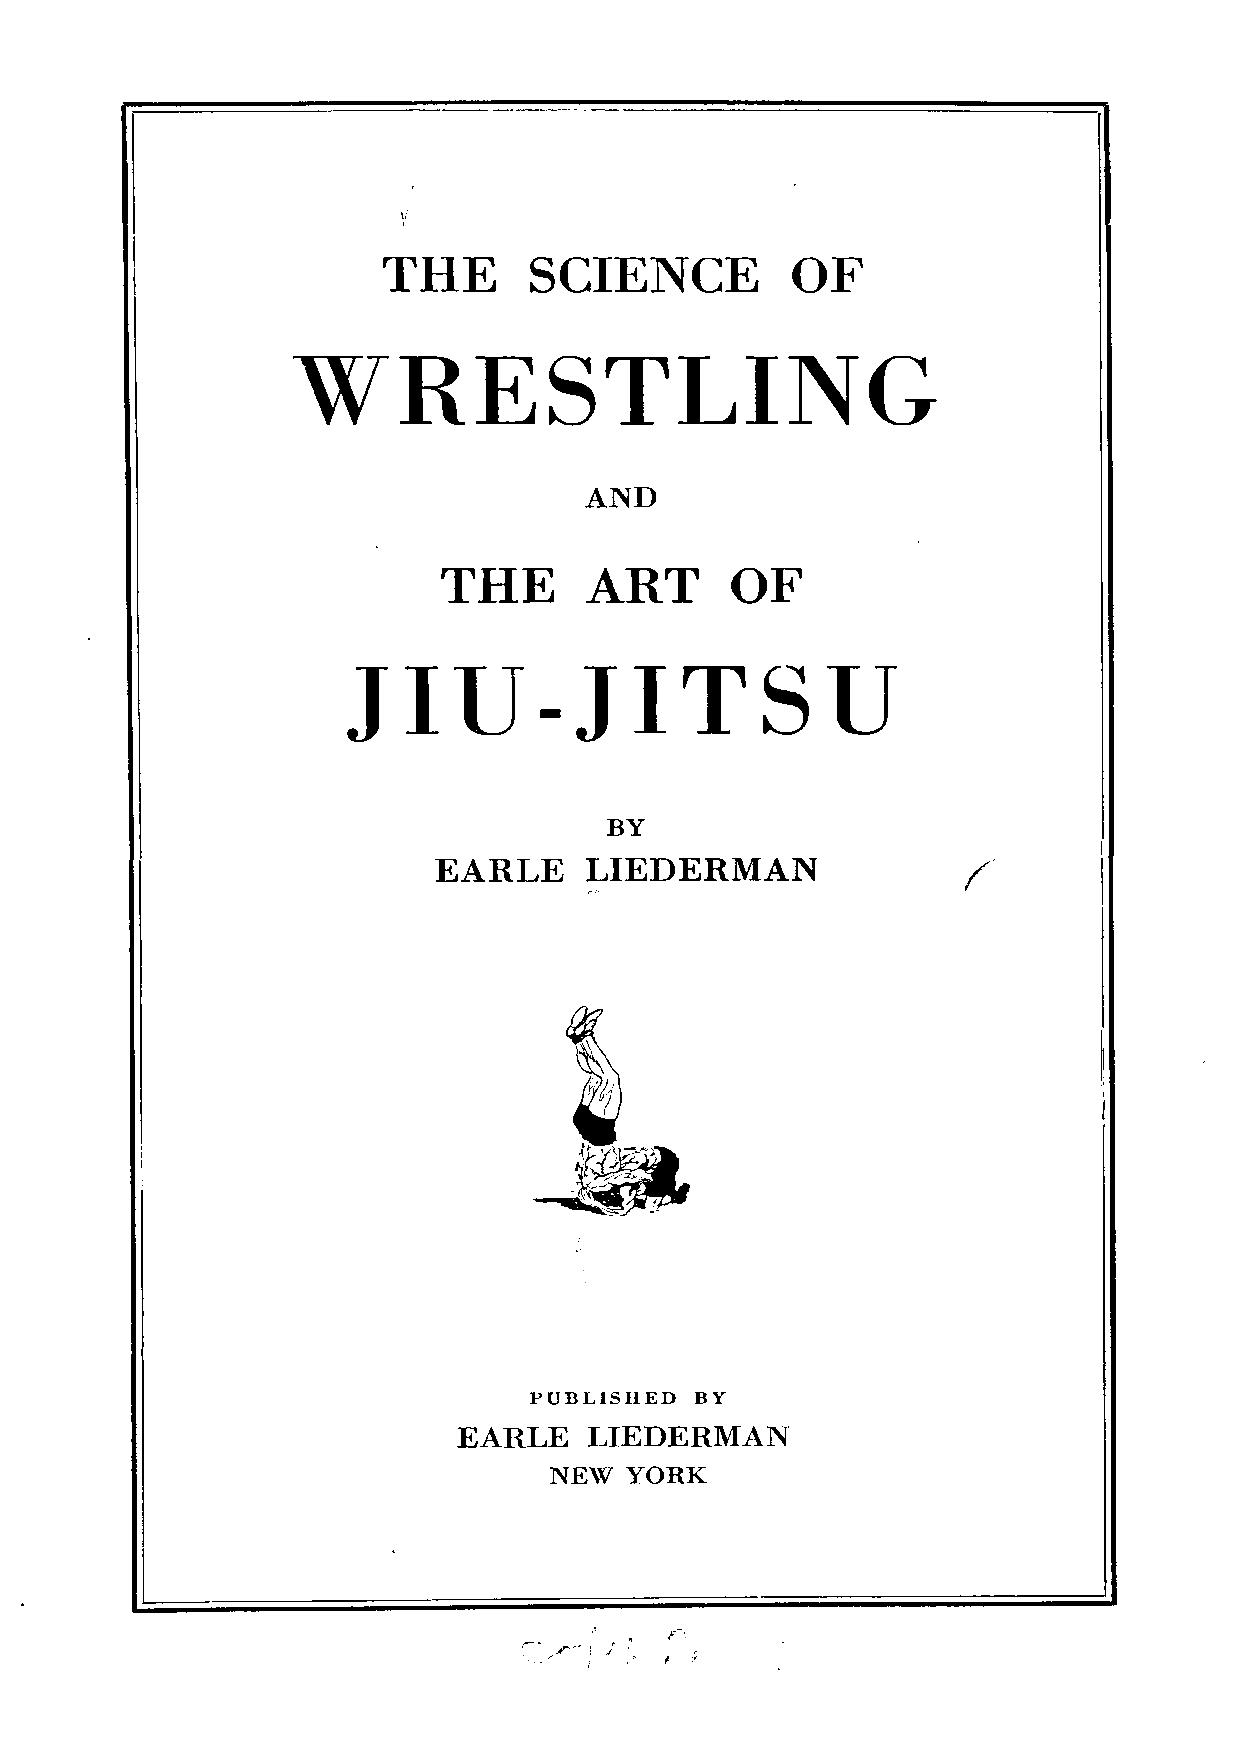author: (431, 816, 816, 887)
title: (286, 252, 938, 746)
